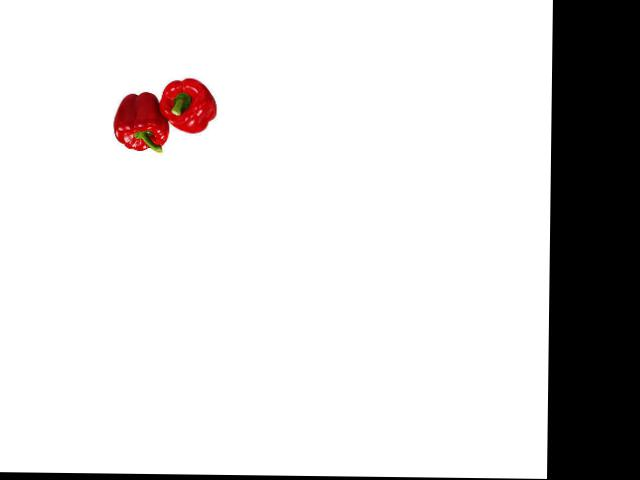bell_pepper: (111, 87, 171, 155)
